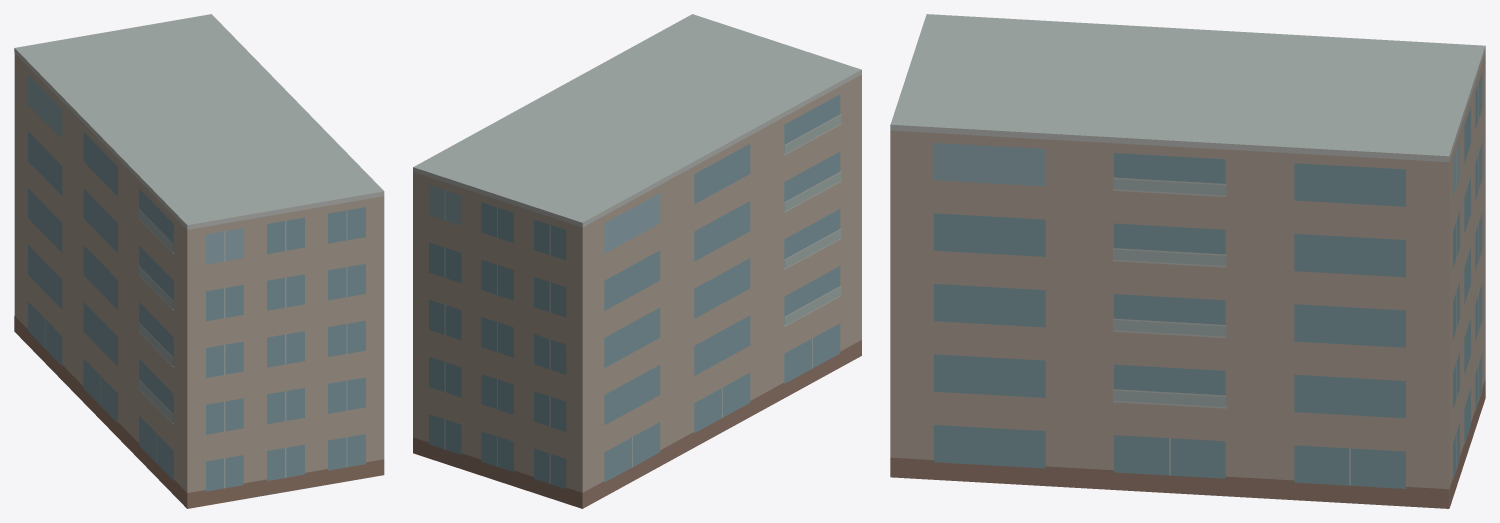
Rendered from survey-upis-33000259.glb.
3 renders of one model, left to right at view 1: azimuth 30°, elevation 25°; view 2: azimuth 150°, elevation 25°; view 3: azimuth 270°, elevation 25°, orthographic. The views are drawn at different scales.
Parts seen in each view (by area): view 1: survey-upis-33000259.tmp; view 2: survey-upis-33000259.tmp; view 3: survey-upis-33000259.tmp.
Boxes of the visible parts, bbox=[...] form: survey-upis-33000259.tmp: bbox=[14, 14, 384, 508]; survey-upis-33000259.tmp: bbox=[413, 14, 861, 508]; survey-upis-33000259.tmp: bbox=[890, 14, 1485, 508].
Size of the model in its own units: 12.65 by 14.6 by 22.34.
